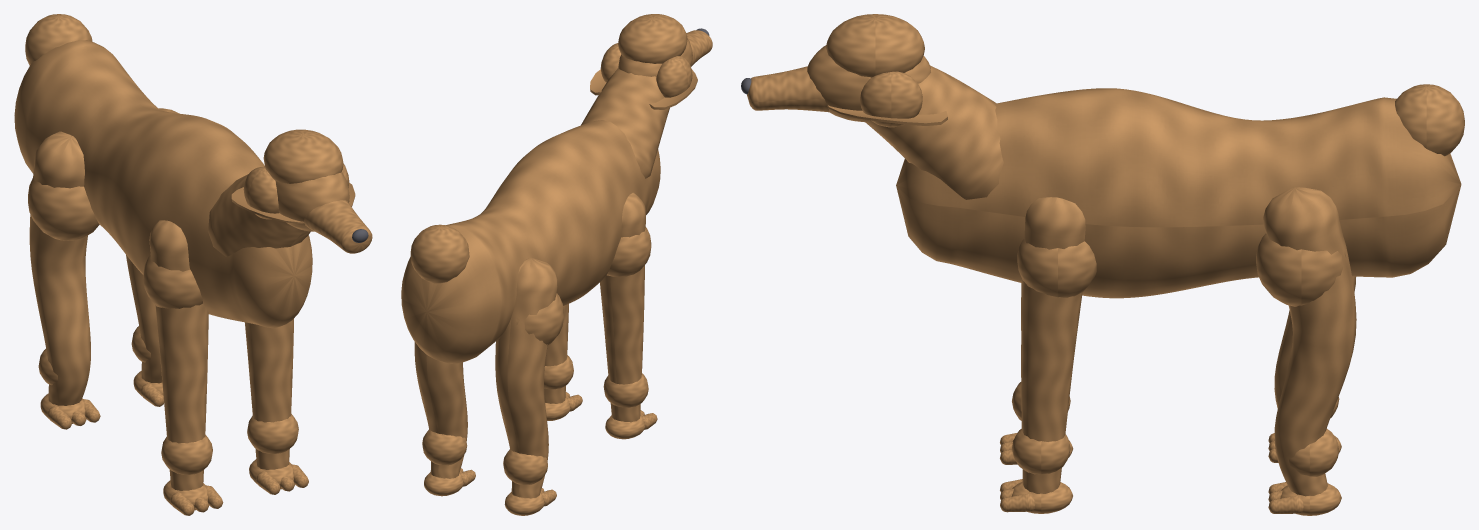
Rendered from pets-and-companions-hd-poodle-apricot-23bf1989__28144.glb.
The picture shows the model from 3 angles, left to right: view 1: azimuth 30°, elevation 25°; view 2: azimuth 150°, elevation 25°; view 3: azimuth 270°, elevation 25°; orthographic projection. The views are drawn at different scales.
Visible parts, largest first — view 1: poodle-apricot; view 2: poodle-apricot; view 3: poodle-apricot.
Part boxes in pixels (x1,y1,x2,y2): poodle-apricot: (14, 14, 372, 515); poodle-apricot: (401, 14, 712, 515); poodle-apricot: (741, 14, 1464, 515).
Bounding box in the file's own units: 0.2749 × 0.6649 × 0.9323.
Materials: 2 (1 with a texture image).
